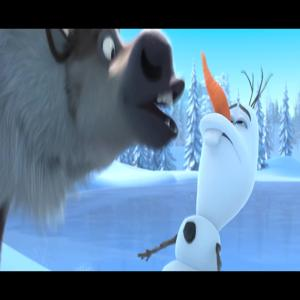carrot: (200, 54, 239, 121)
olaf: (196, 49, 263, 270)
sven: (39, 32, 180, 165)
